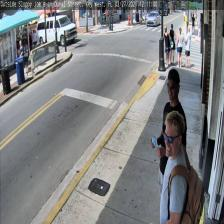person: (150, 68, 187, 224), (159, 110, 187, 224), (176, 26, 183, 67), (163, 26, 170, 66), (169, 23, 176, 63), (185, 26, 191, 68)
